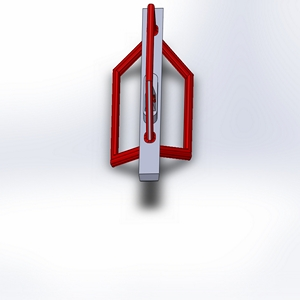submarine: (94, 1, 214, 192)
